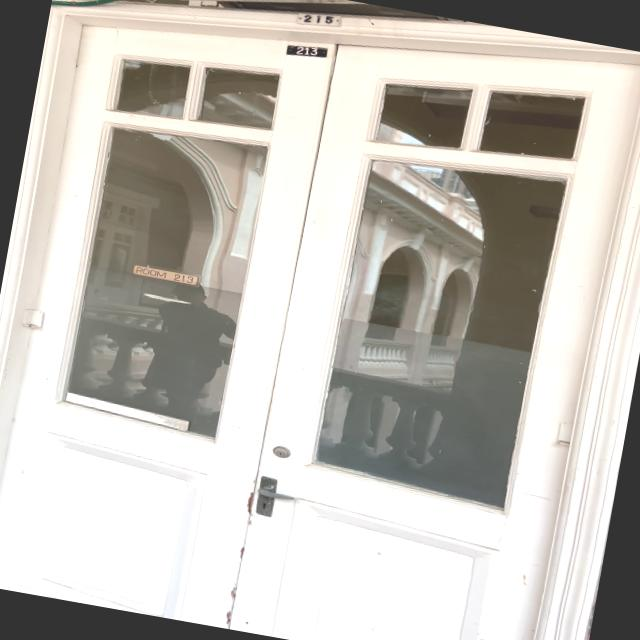room213: (284, 38, 328, 63)
room213Window: (128, 260, 202, 288)
